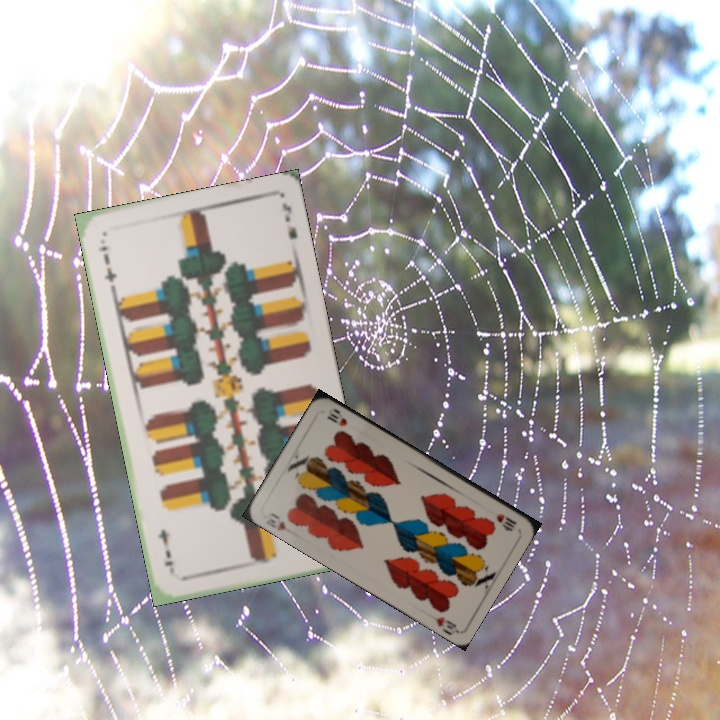E7: (93, 241, 119, 292)
H10: (262, 508, 289, 533), (492, 510, 519, 532)
